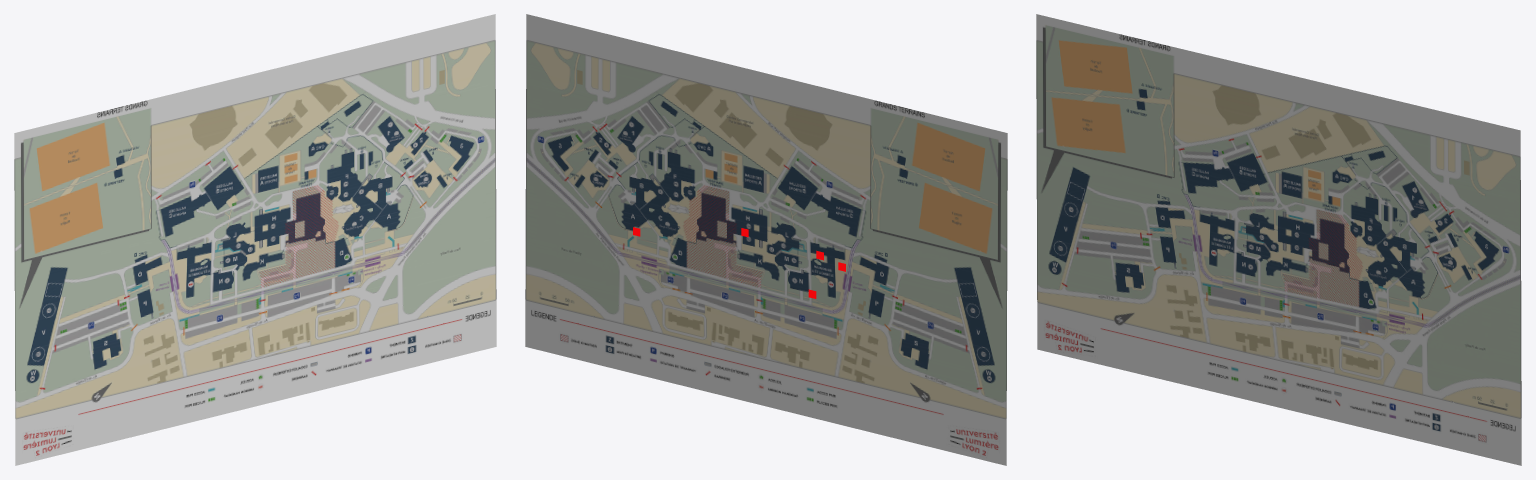
Rendered from map.glb.
3 views of the same model, side by side, from view 1: azimuth 30°, elevation 25°; view 2: azimuth 150°, elevation 25°; view 3: azimuth 330°, elevation 25° (orthographic).
Parts seen in each view (by area): view 1: Plane; view 2: Plane; view 3: Plane.
Boxes of the visible parts, bbox=[...] form: Plane: bbox=[14, 14, 496, 465]; Plane: bbox=[525, 14, 1007, 465]; Plane: bbox=[1036, 14, 1521, 465].
Bounding box in the file's own units: 3.49 × 2.32 × 0.00514.
2 materials, 1 textured.
